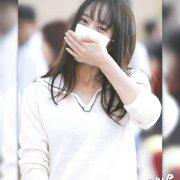OK: (69, 11, 117, 59)
